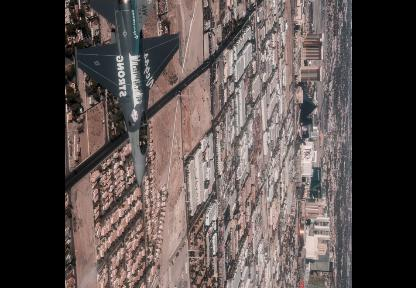F14: (73, 0, 182, 195)
